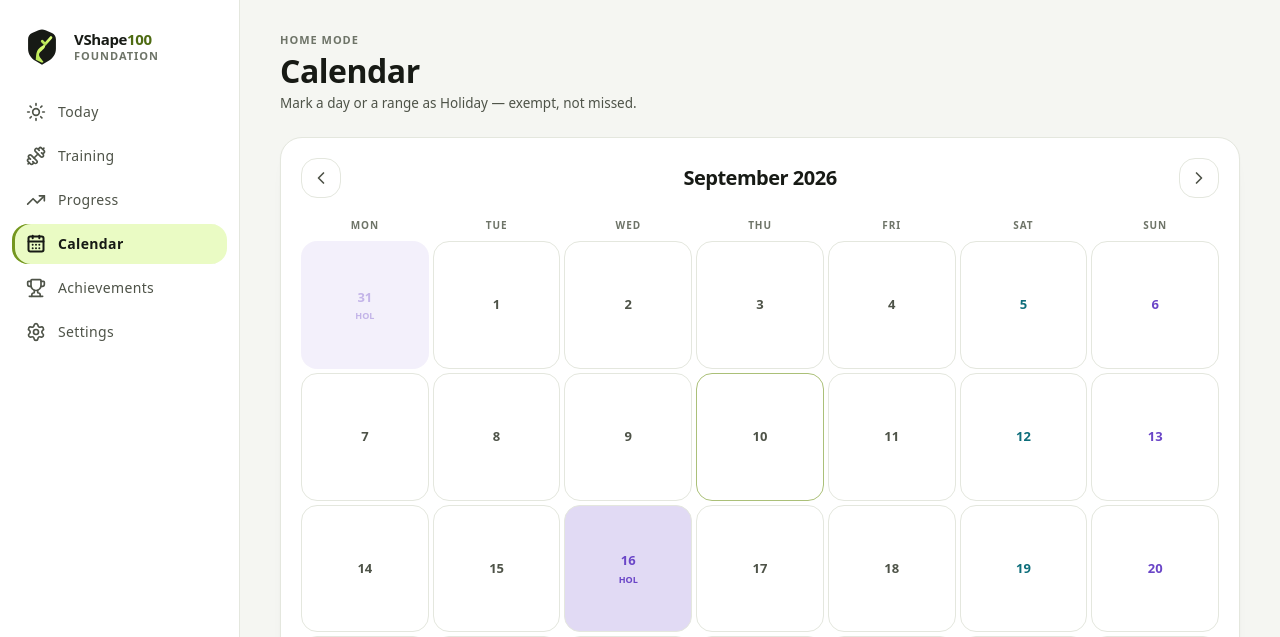
1. month view › navigates to the previous and next month
This screenshot has width=1280, height=637.
expect the heading "Calendar" is shown: met, box [280,48,420,92]
Click the button named "Previous month": [321, 178] box [301,158,341,198]
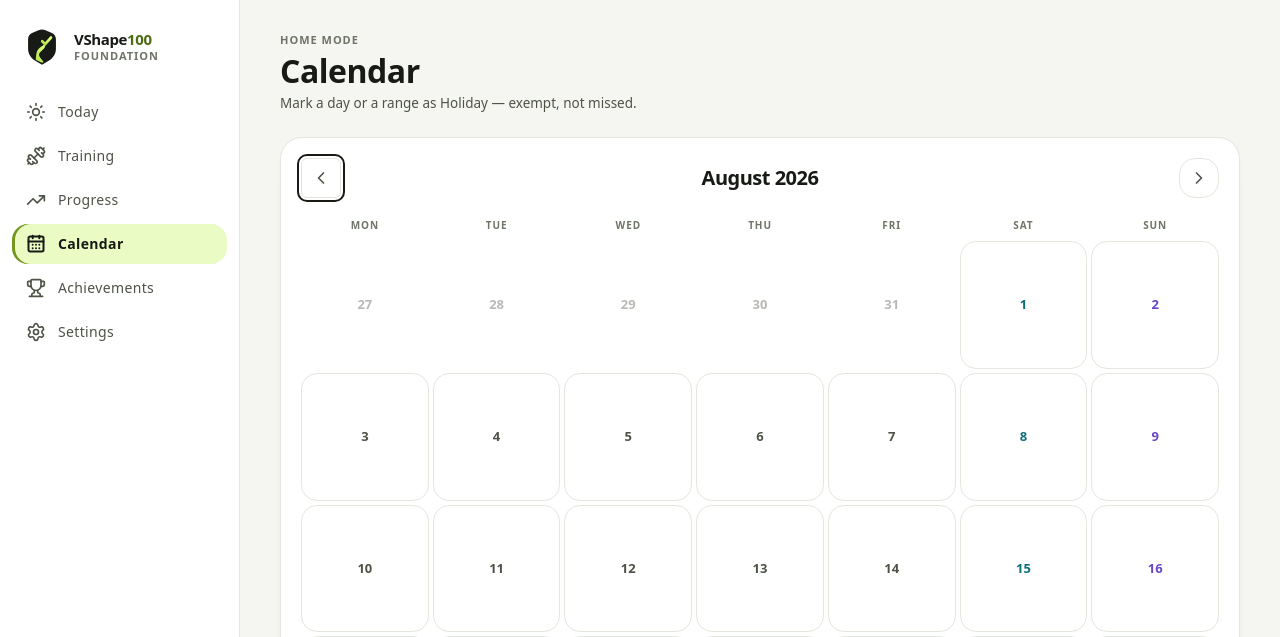
expect the heading "August 2026" is shown: met, box [702,164,818,192]
Click the button named "Next month": [1199, 178] box [1179,158,1219,198]
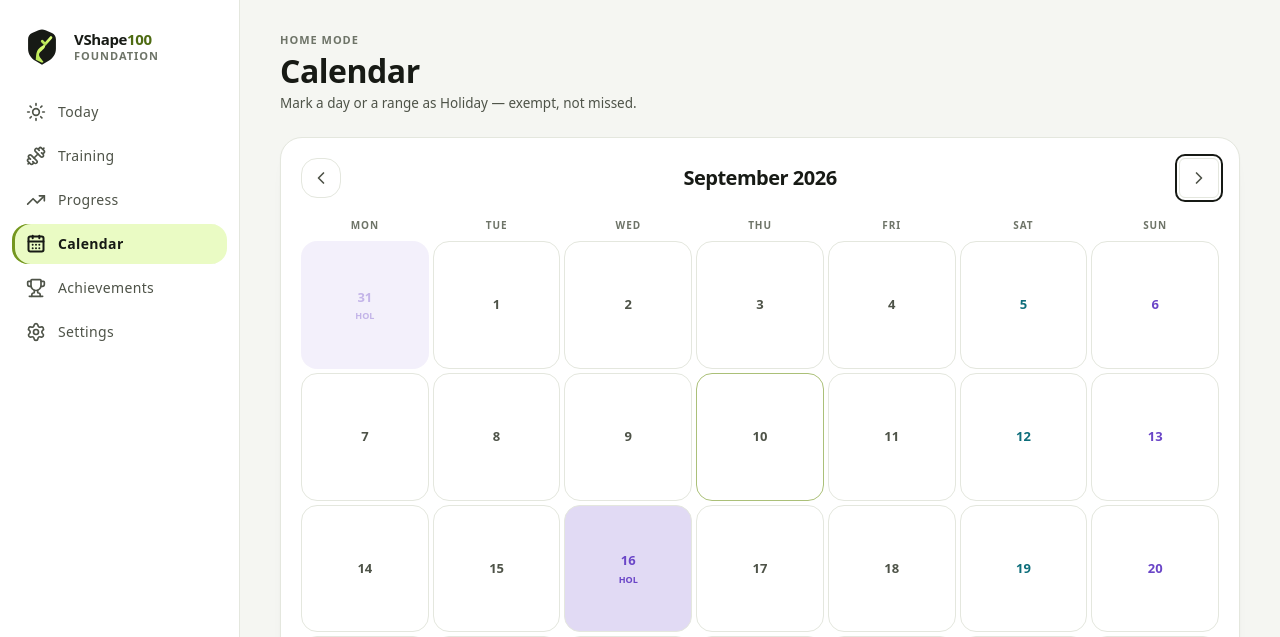
Click the button named "Next month": [1199, 178] box [1179,158,1219,198]
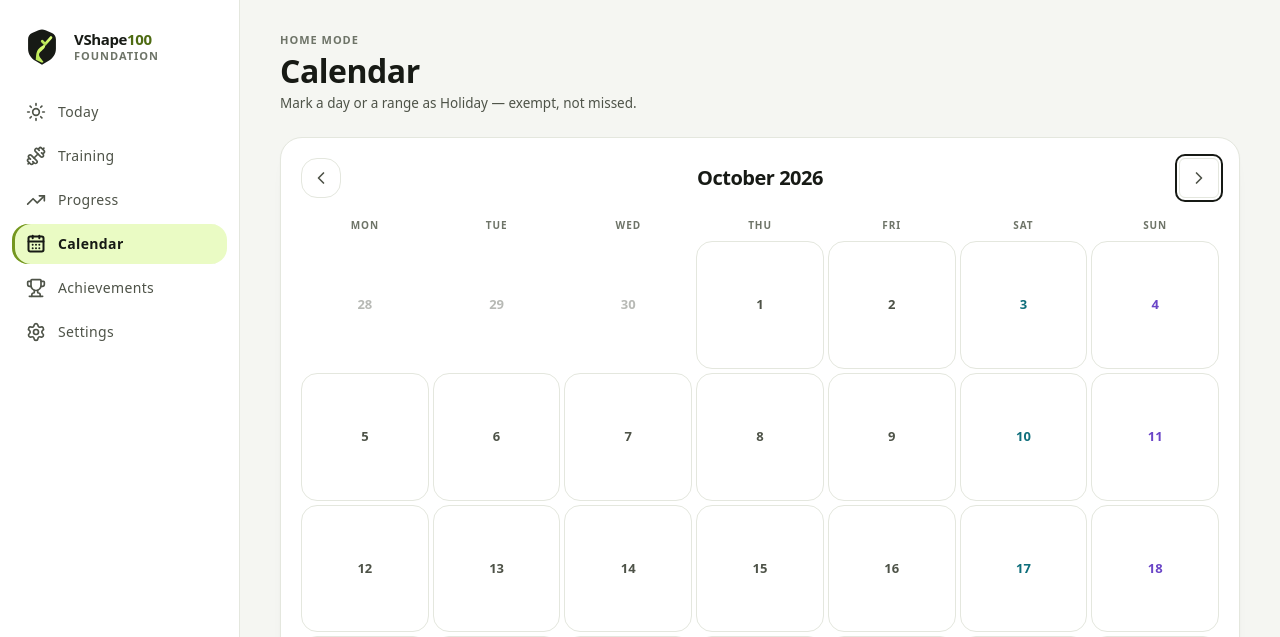
expect the heading "October 2026" is shown: met, box [697,164,823,192]
